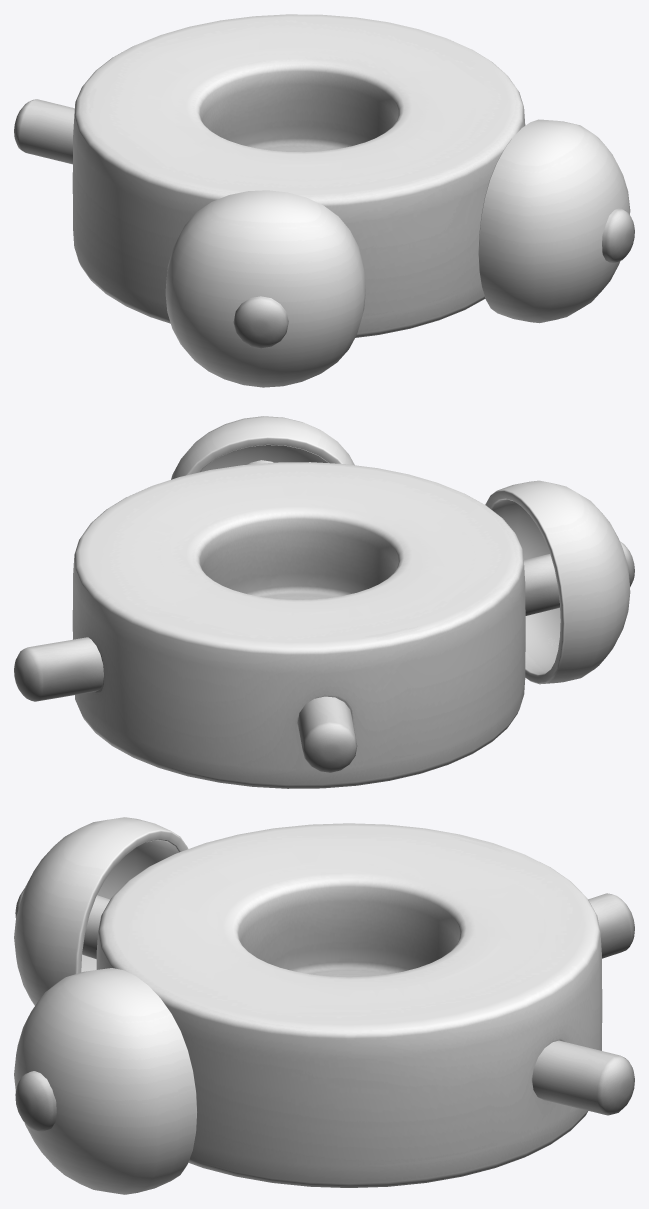
The model's file is Pin_Model_9.fbx.
3 views of the same model, one above another, from view 1: azimuth 30°, elevation 25°; view 2: azimuth 150°, elevation 25°; view 3: azimuth 270°, elevation 25° (orthographic). The views are drawn at different scales.
Visible parts, largest first — view 1: Pin_Clock; view 2: Pin_Clock; view 3: Pin_Clock.
Part boxes in pixels (box(x1,y1,x2,y2)): Pin_Clock: box(14, 14, 634, 387); Pin_Clock: box(14, 416, 634, 788); Pin_Clock: box(14, 817, 634, 1194).
Size of the model in its own units: 0.635 by 0.2476 by 0.6879.
2 materials, 2 textured.
